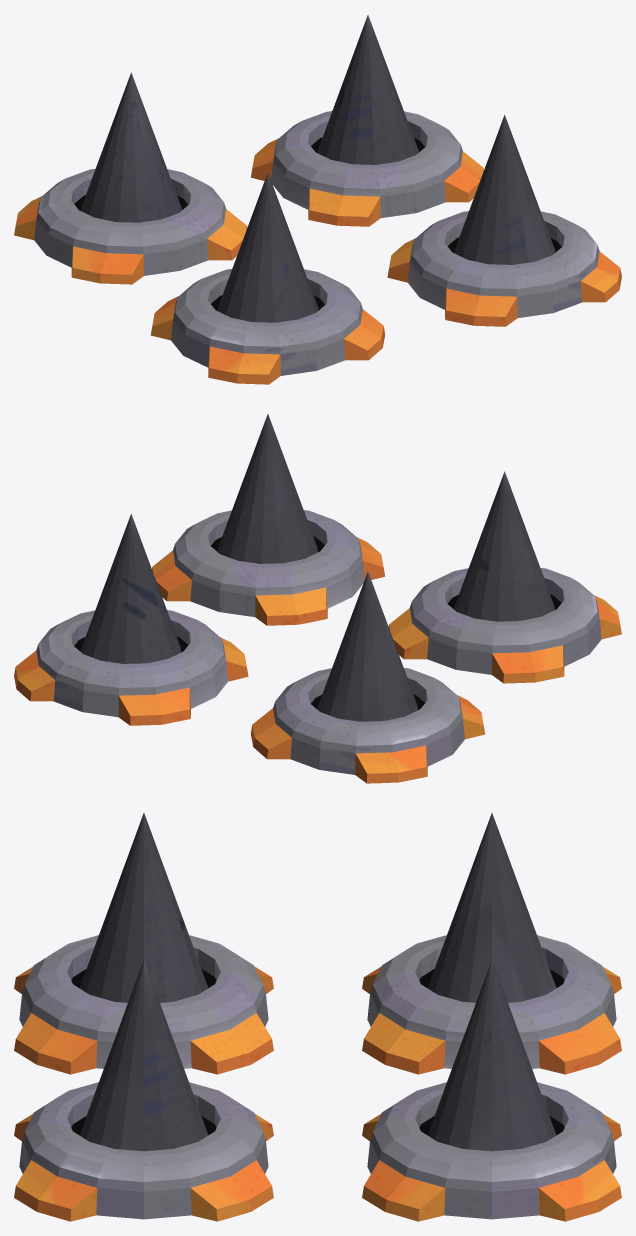
Rendered from SpikeTrap.glb.
The picture shows the model from 3 angles, top to bottom: view 1: azimuth 30°, elevation 25°; view 2: azimuth 150°, elevation 25°; view 3: azimuth 270°, elevation 25°; orthographic projection. The views are drawn at different scales.
Visible parts, largest first — view 1: TestTrap_1.003, TestTrap_1.004; view 2: TestTrap_1.003, TestTrap_1.004; view 3: TestTrap_1.003, TestTrap_1.004.
Boxes of the visible parts, box(x1,y1,x2,y2) form: TestTrap_1.003: box(14, 111, 621, 384); TestTrap_1.004: box(81, 15, 555, 322); TestTrap_1.003: box(14, 510, 621, 783); TestTrap_1.004: box(80, 414, 554, 721); TestTrap_1.003: box(14, 935, 621, 1221); TestTrap_1.004: box(79, 813, 556, 1151).
Bounding box in the file's own units: 0.8735 × 0.3287 × 0.8735.
4 materials, 3 textured.
